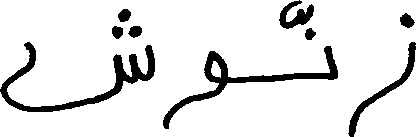ز: (347, 10, 414, 135)
ش: (0, 6, 156, 112)
ن: (297, 26, 339, 80)
و: (161, 49, 229, 130)
